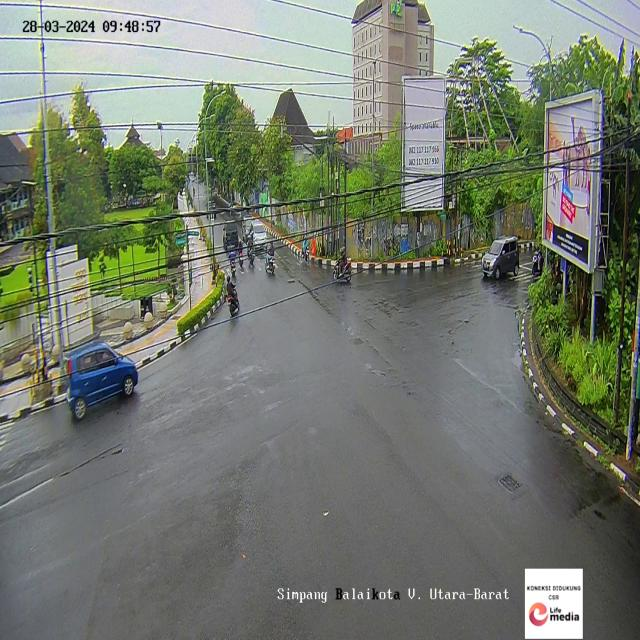car: (59, 342, 141, 422), (483, 237, 521, 280), (249, 220, 267, 254), (224, 219, 237, 248), (242, 211, 254, 242)
motorcycle: (333, 248, 353, 284), (226, 276, 242, 319), (265, 239, 276, 274), (302, 236, 312, 263), (230, 248, 239, 276), (237, 238, 246, 266), (247, 236, 254, 265)
